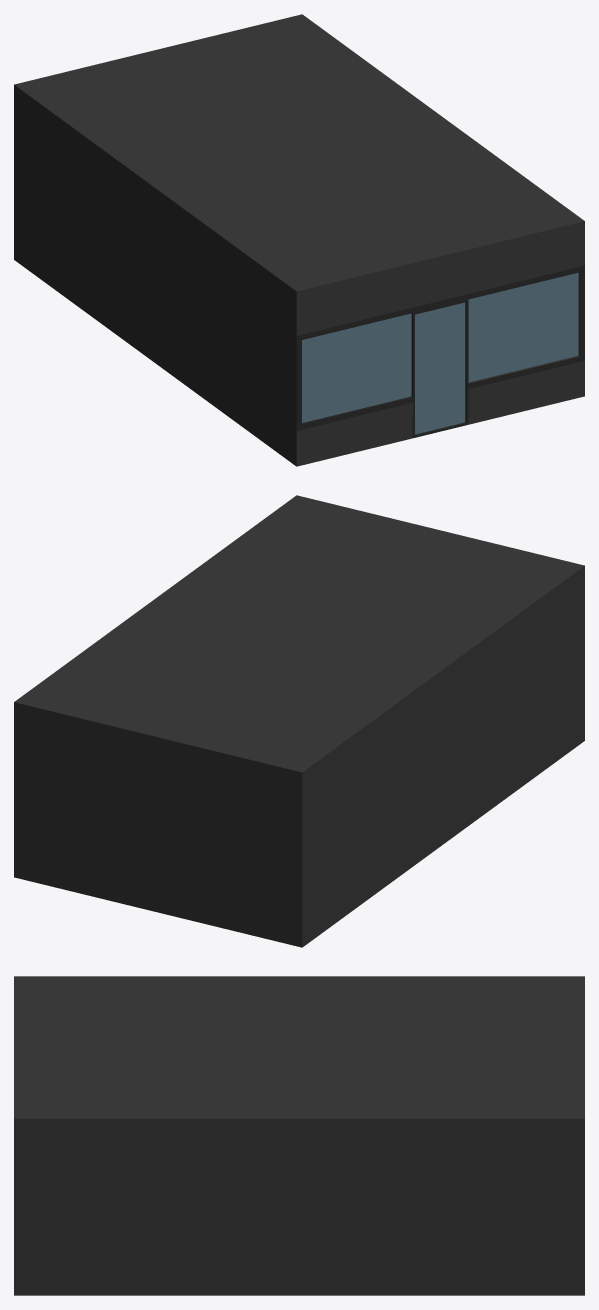
The model's file is GroundFloor.fbx.
3 renders of one model, top to bottom at view 1: azimuth 30°, elevation 25°; view 2: azimuth 150°, elevation 25°; view 3: azimuth 270°, elevation 25°, orthographic.
Visible parts, largest first — view 1: ground floor; view 2: ground floor; view 3: ground floor.
Boxes of the visible parts, x1,y1,x2,y2 form: ground floor: (14, 14, 584, 466); ground floor: (14, 495, 584, 947); ground floor: (14, 976, 584, 1295).
Bounding box in the file's own units: 479 × 278 × 814.
